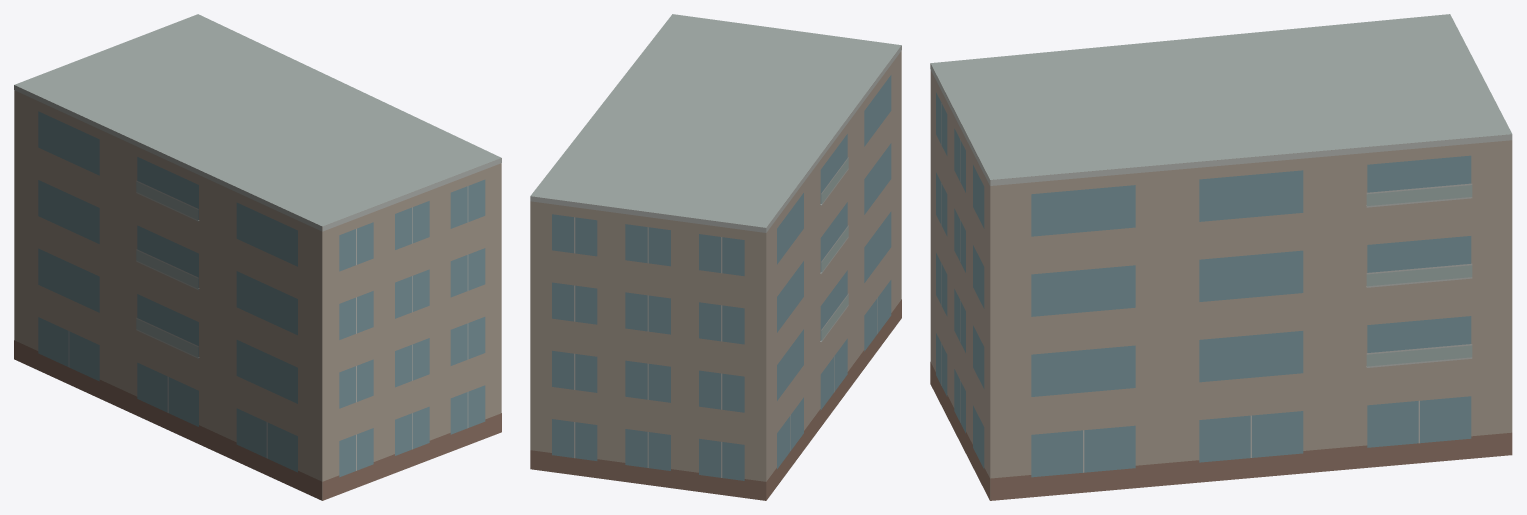
The model's file is survey-upis-32709147.glb.
3 views of the same model, side by side, from view 1: azimuth 30°, elevation 25°; view 2: azimuth 150°, elevation 25°; view 3: azimuth 270°, elevation 25° (orthographic). The views are drawn at different scales.
Parts seen in each view (by area): view 1: survey-upis-32709147.tmp; view 2: survey-upis-32709147.tmp; view 3: survey-upis-32709147.tmp.
Boxes of the visible parts, bbox=[...] form: survey-upis-32709147.tmp: bbox=[14, 14, 501, 500]; survey-upis-32709147.tmp: bbox=[530, 14, 901, 500]; survey-upis-32709147.tmp: bbox=[930, 14, 1512, 500].
Size of the model in its own units: 14.44 by 13 by 21.38.
